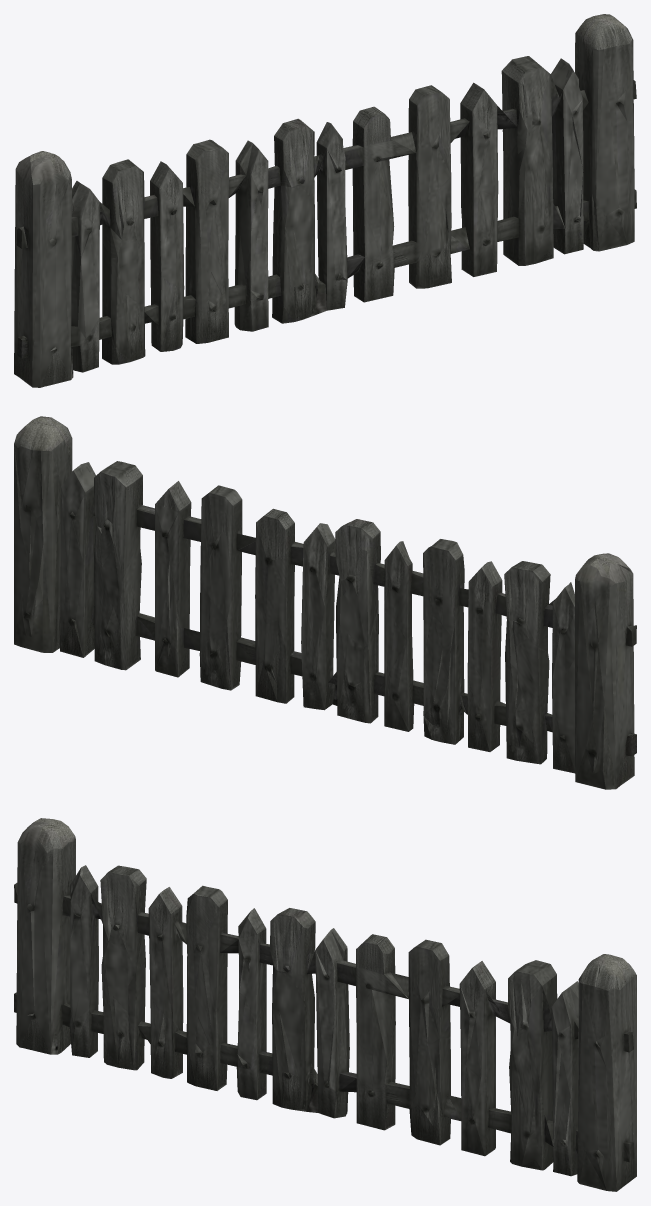
File: fenceRail.glb
3 views of the same model, one above another, from view 1: azimuth 30°, elevation 25°; view 2: azimuth 150°, elevation 25°; view 3: azimuth 330°, elevation 25° (orthographic).
Visible parts, largest first — view 1: output_unwrapped; view 2: output_unwrapped; view 3: output_unwrapped.
Boxes of the visible parts, <box> form: output_unwrapped: <box>14,14,636,387</box>; output_unwrapped: <box>14,416,636,789</box>; output_unwrapped: <box>14,818,636,1191</box>.
Size of the model in its own units: 1.9 by 0.6557 by 0.1474.
1 material, 1 textured.
